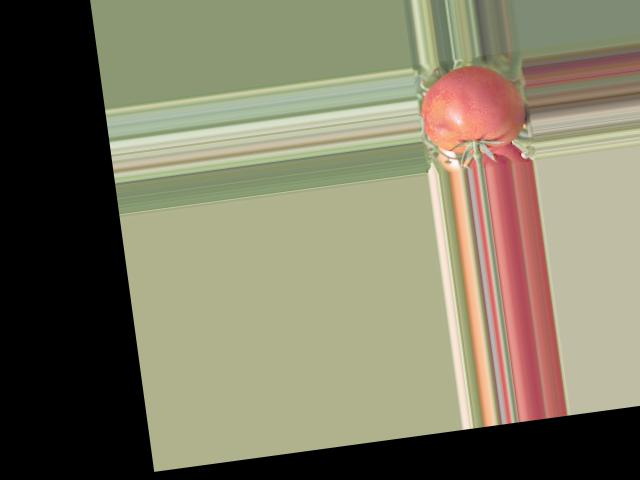tomato: (416, 60, 528, 160)
